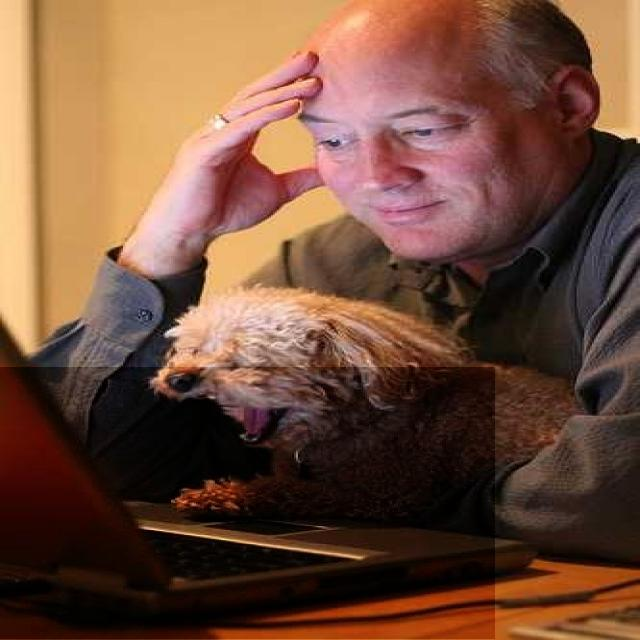-keyboard-: (0, 367, 495, 639)
